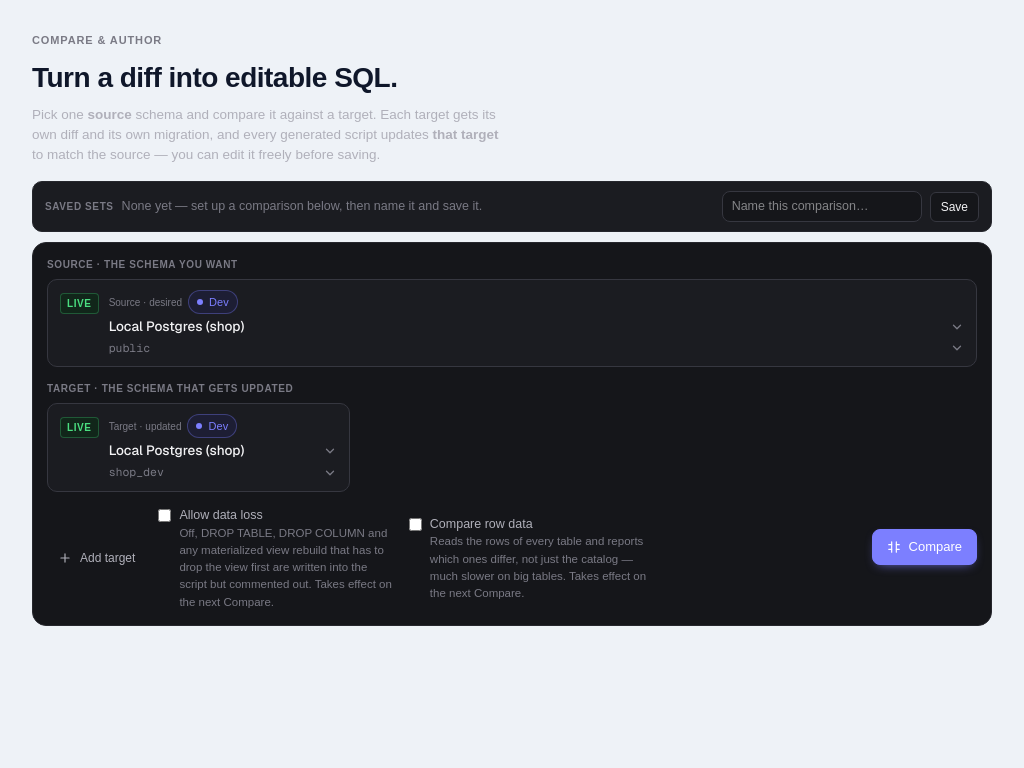
Test: changes that have not been applied yet › goes quiet again when a picker is put back the way it was
The image size is (1024, 768).
Click the dropdown named "Target · updated schema" at (223, 472), box [109,464,337,481]
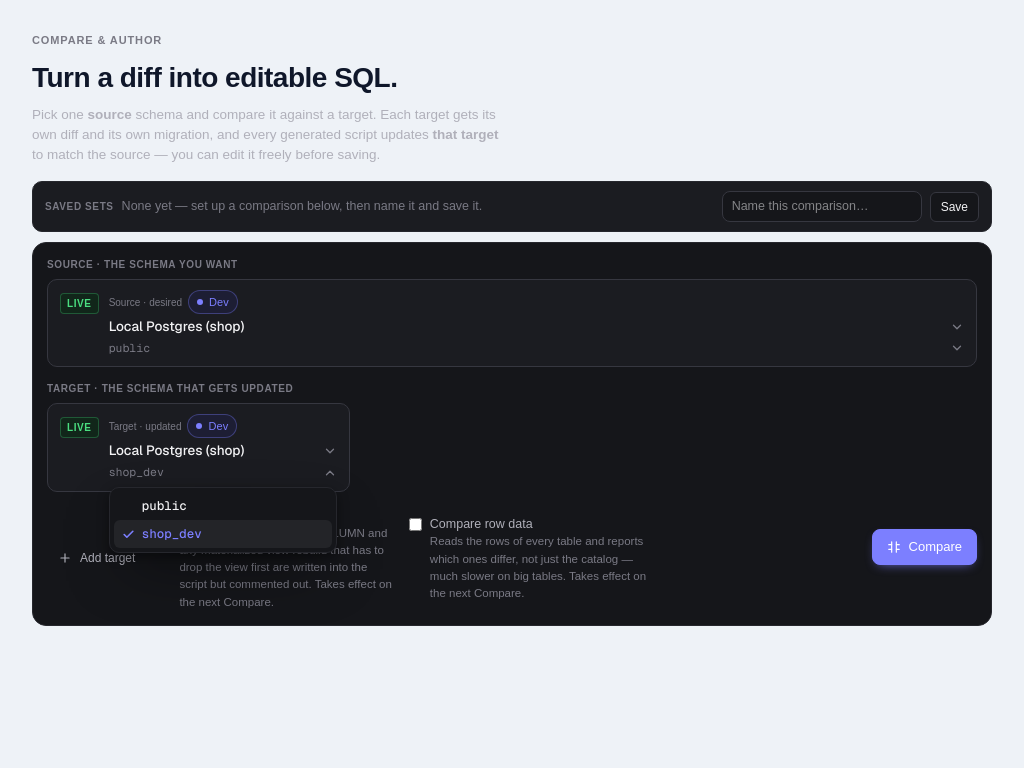
Click the option "public" at (164, 506), box [142,497,187,514]
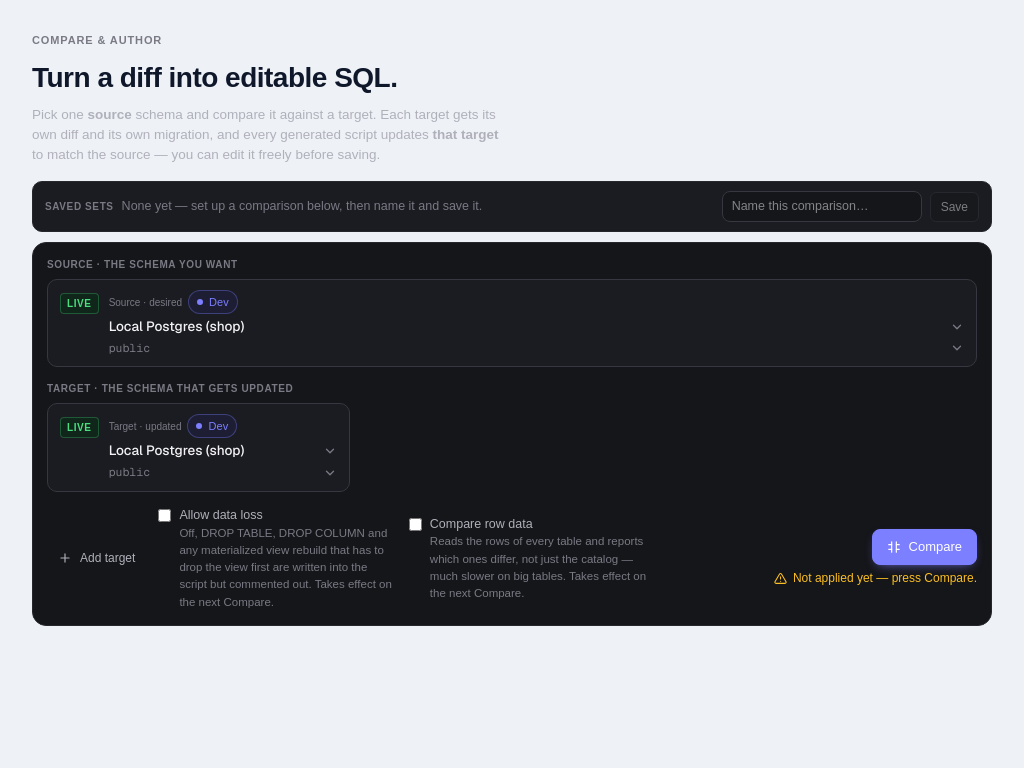
Click the dropdown named "Target · updated schema" at (223, 472), box [109,464,337,481]
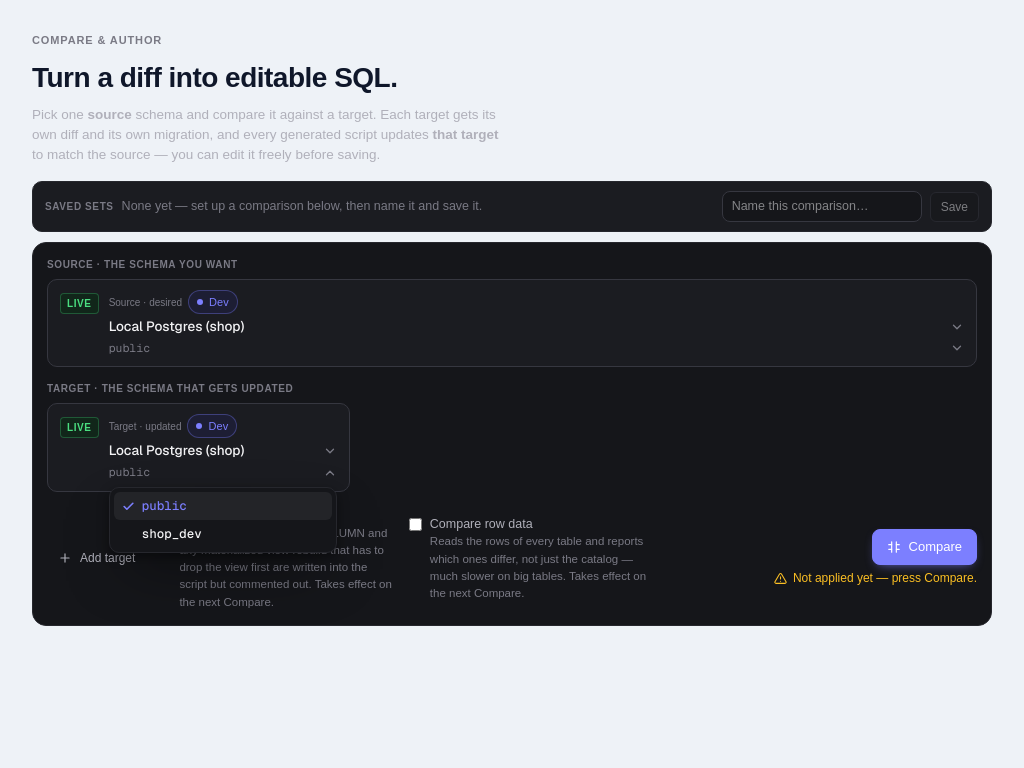
Click the option "shop_dev" at (172, 534), box [142,525,202,542]
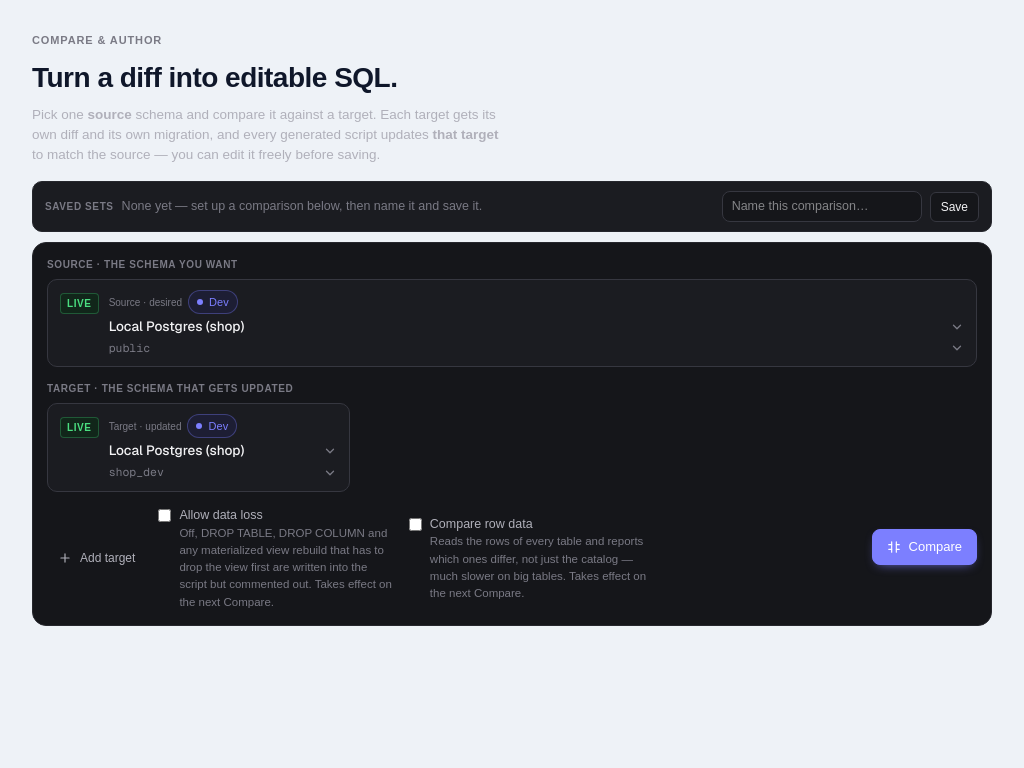
Check: the text "Not applied yet" is gone
